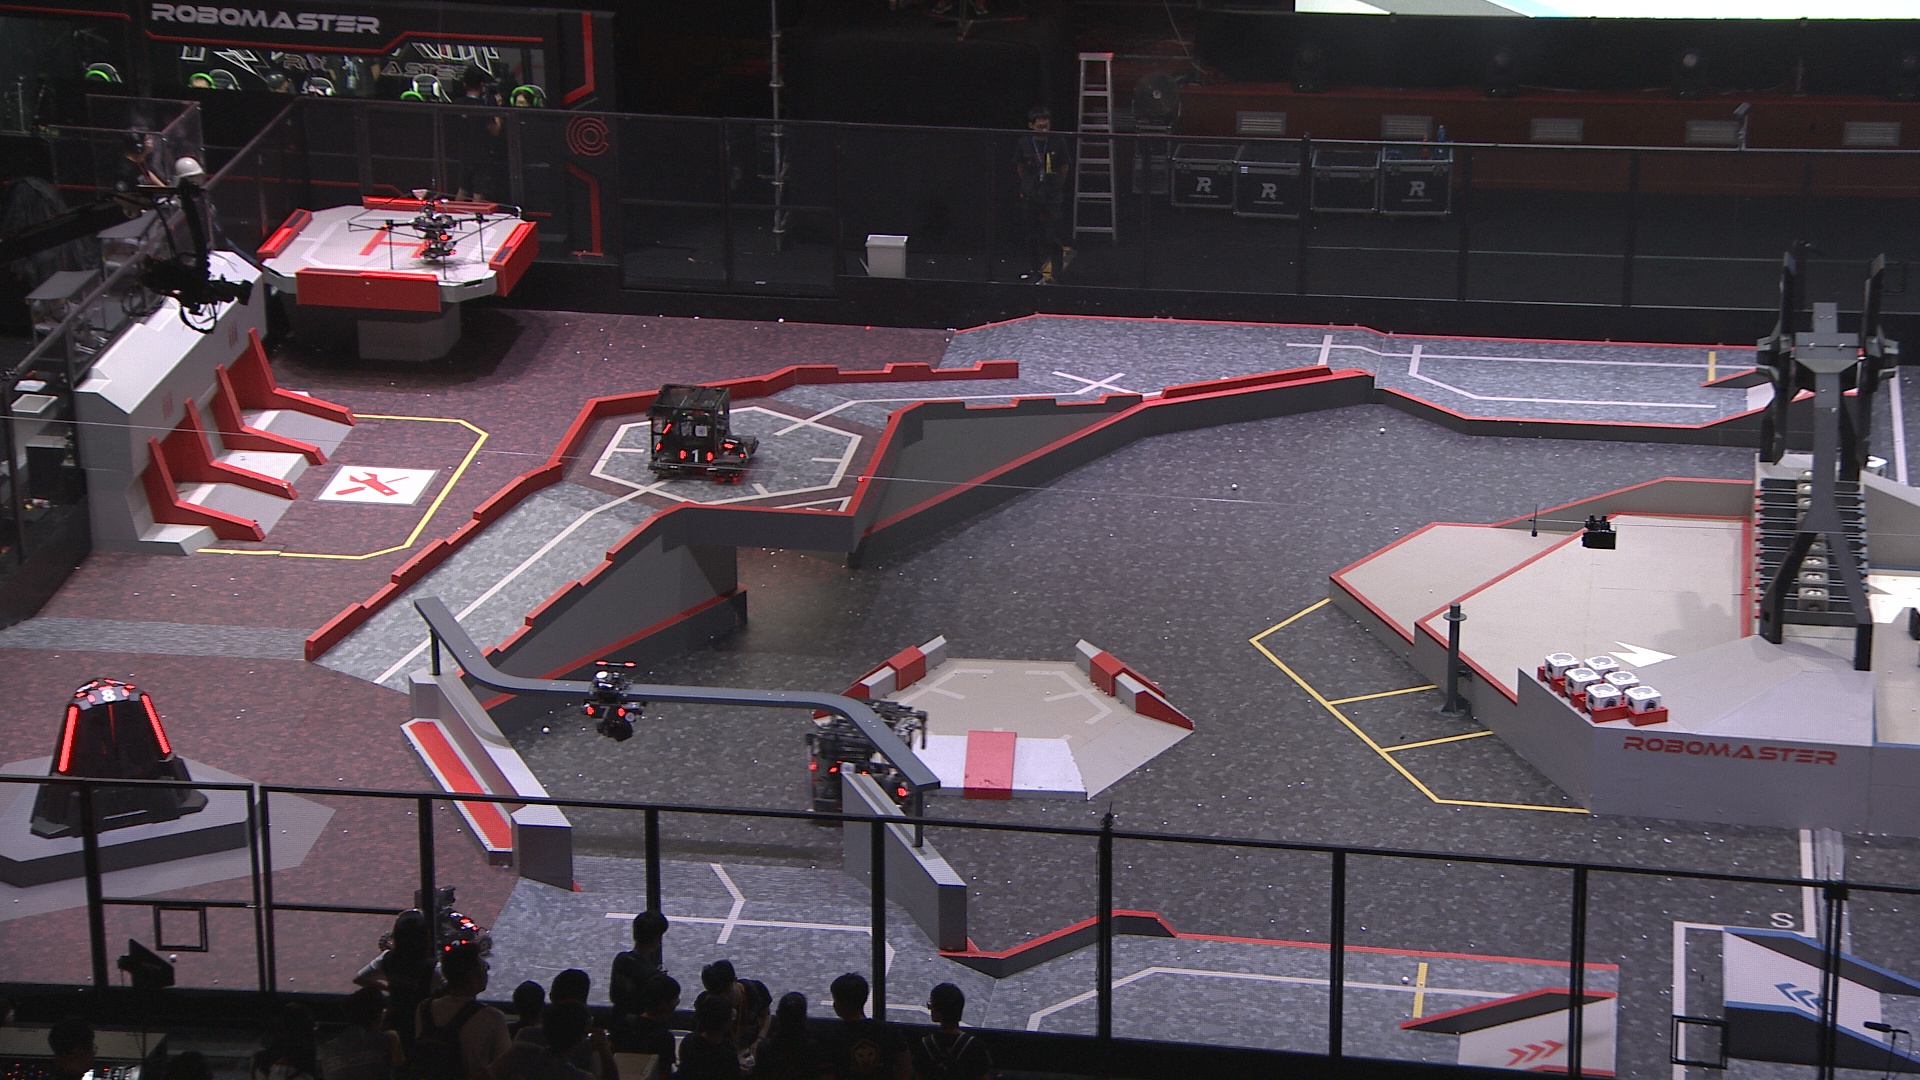armor: (140, 694, 171, 756), (55, 704, 78, 773), (585, 702, 624, 721), (90, 684, 128, 700), (105, 702, 119, 746), (73, 679, 96, 699), (680, 448, 711, 463), (446, 907, 467, 927), (894, 778, 916, 796), (442, 938, 465, 955), (723, 433, 738, 454), (740, 444, 754, 462)
base: (26, 673, 204, 843)
car: (800, 688, 936, 831), (644, 380, 761, 487), (378, 880, 495, 972)
watcher: (582, 659, 646, 738)
